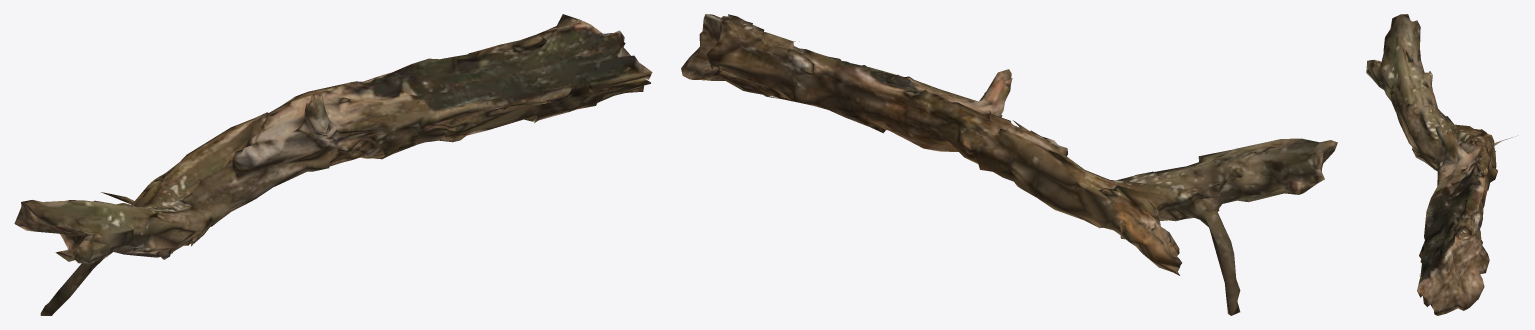
The model's file is log.glb.
The picture shows the model from 3 angles, left to right: view 1: azimuth 30°, elevation 25°; view 2: azimuth 150°, elevation 25°; view 3: azimuth 270°, elevation 25°; orthographic projection. The views are drawn at different scales.
Parts seen in each view (by area): view 1: dead_tree_trunk_02; view 2: dead_tree_trunk_02; view 3: dead_tree_trunk_02.
Boxes of the visible parts, <box> form: dead_tree_trunk_02: <box>14,14,652,315</box>; dead_tree_trunk_02: <box>681,14,1337,315</box>; dead_tree_trunk_02: <box>1366,14,1512,315</box>.
Bounding box in the file's own units: 4.05 × 1.05 × 1.04.
1 material, 1 textured.
